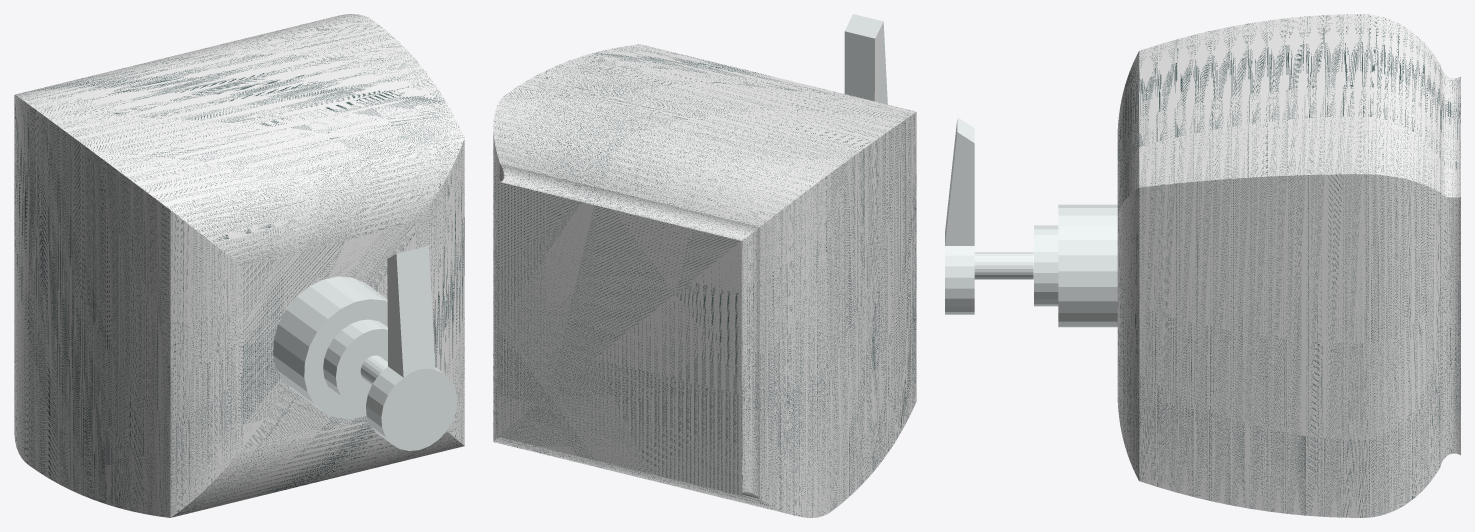
3 renders of one model, left to right at view 1: azimuth 30°, elevation 25°; view 2: azimuth 150°, elevation 25°; view 3: azimuth 270°, elevation 25°, orthographic. The views are drawn at different scales.
Visible parts, largest first — view 1: soap dispenser; view 2: soap dispenser; view 3: soap dispenser.
Boxes of the visible parts, bbox=[...] form: soap dispenser: bbox=[14, 14, 464, 517]; soap dispenser: bbox=[493, 14, 916, 517]; soap dispenser: bbox=[945, 14, 1460, 517].
Bounding box in the file's own units: 77 × 77 × 105.
